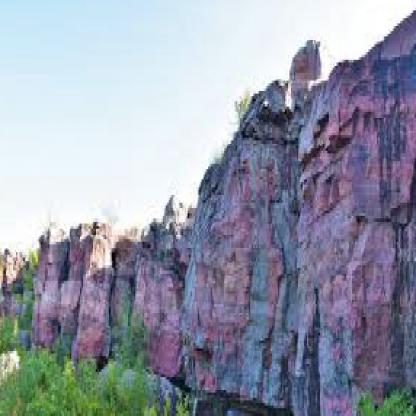Metamorphic_Quartize: (291, 104, 384, 413), (197, 169, 276, 406), (72, 221, 113, 354)
